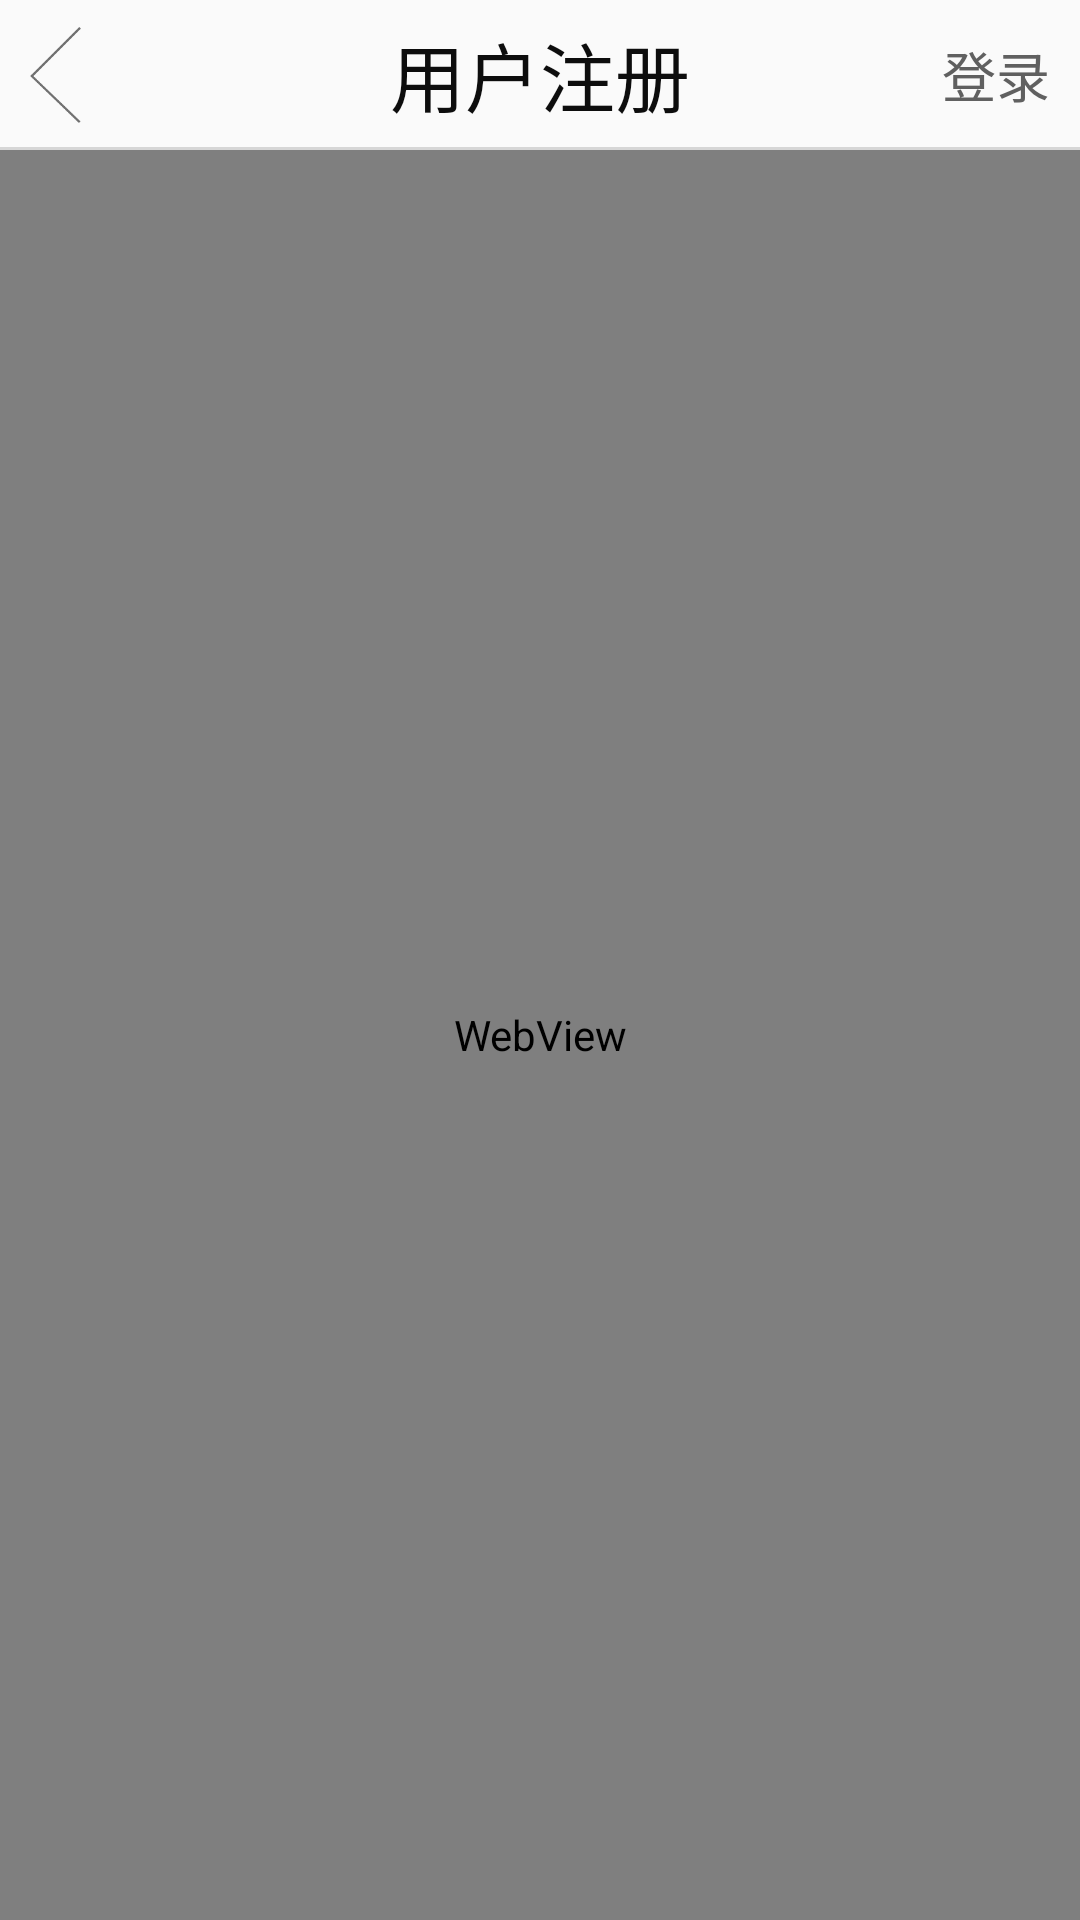

Point at icon controls on the screen. Image size 1080x1920, points as point (x, y).
back: point (60, 75)
